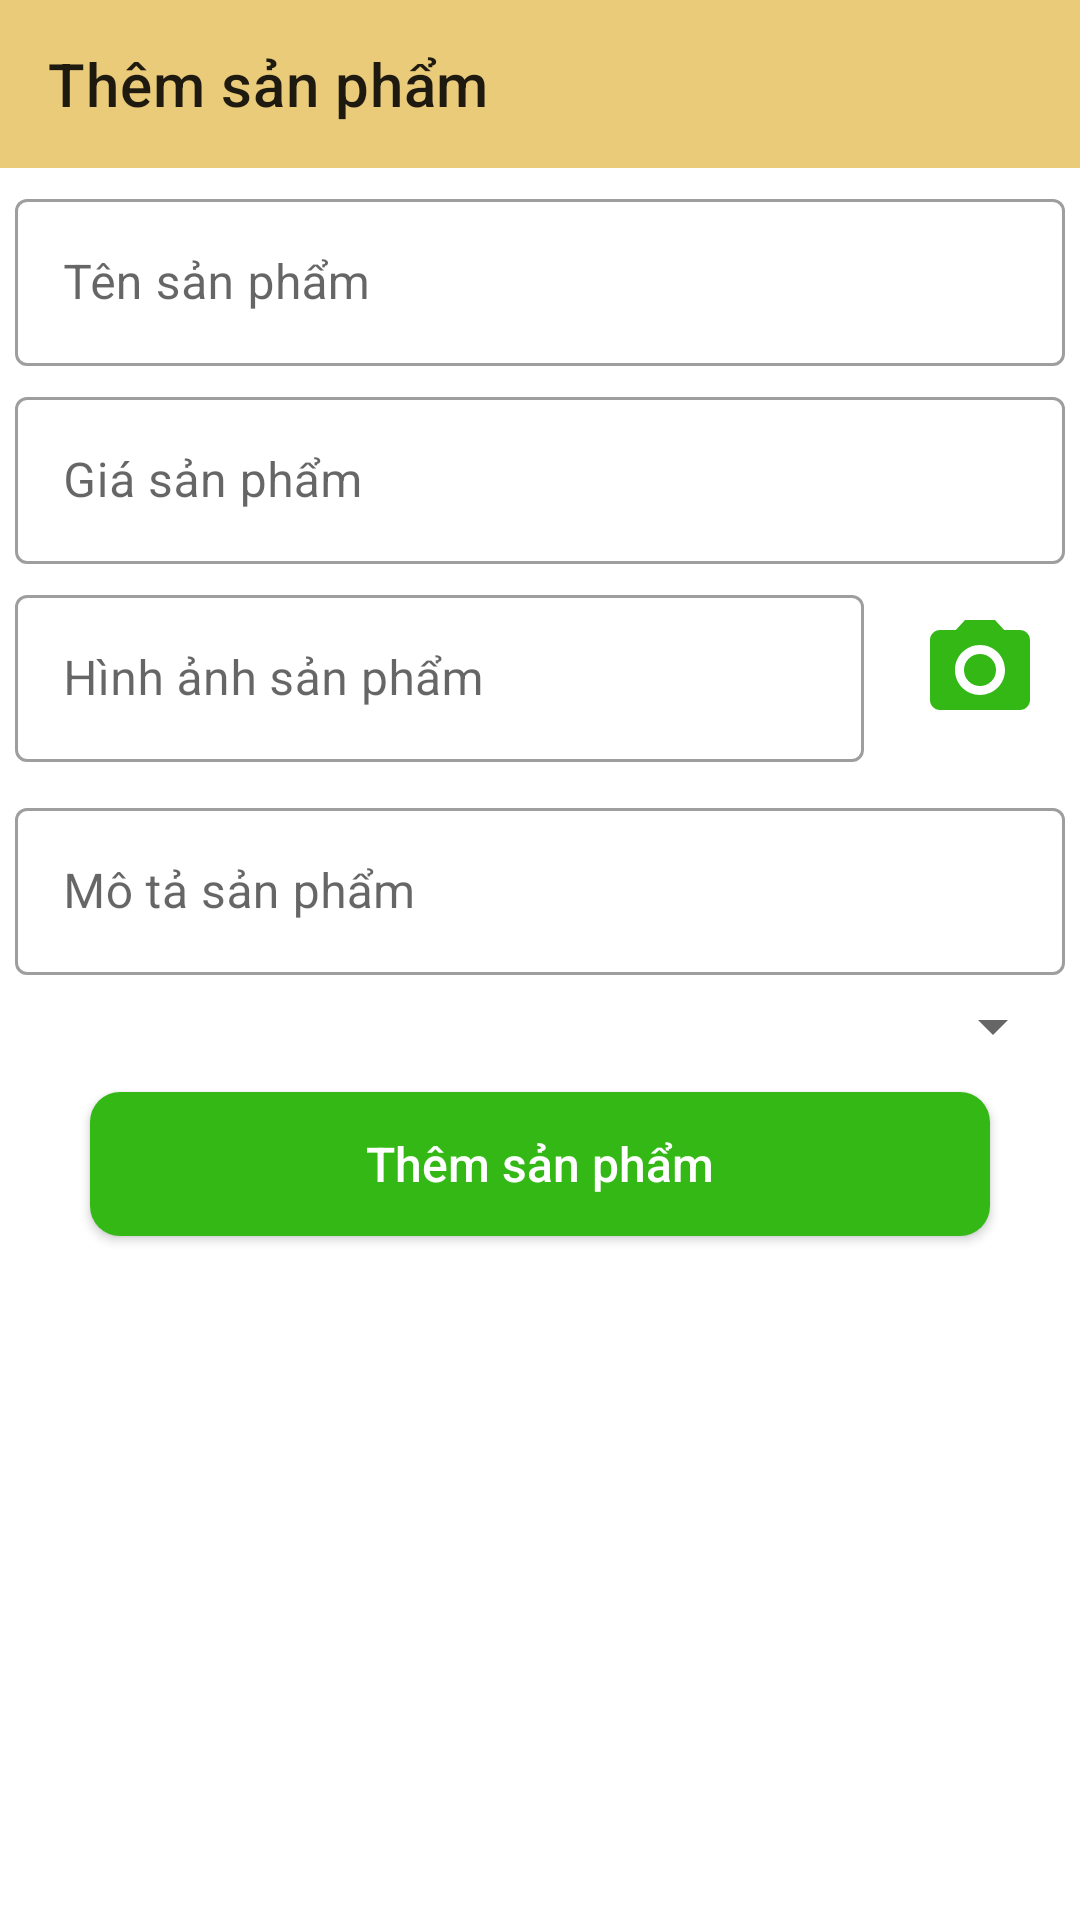

Named icons in this screenshot (1080px x 1920px) and their bounding boxes, {"x1": x1, "y1": y1, "x2": x2, "y2": y2}:
photo camera: {"x1": 930, "y1": 620, "x2": 1030, "y2": 710}
